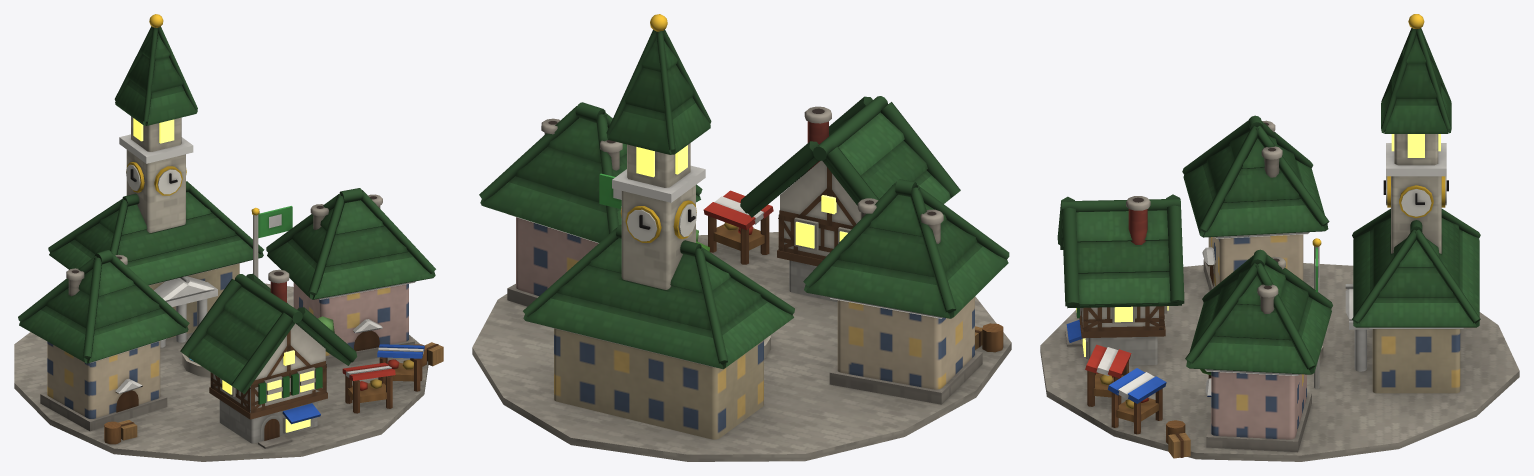
File: city_dl4_green.glb
The picture shows the model from 3 angles, left to right: view 1: azimuth 30°, elevation 25°; view 2: azimuth 150°, elevation 25°; view 3: azimuth 270°, elevation 25°; orthographic projection. The views are drawn at different scales.
Visible parts, largest first — view 1: city_dl4_green; view 2: city_dl4_green; view 3: city_dl4_green.
Part boxes in pixels (x1,y1,x2,y2): city_dl4_green: (14, 14, 443, 461); city_dl4_green: (472, 14, 1011, 461); city_dl4_green: (1040, 14, 1519, 461).
Size of the model in its own units: 1.51 by 1.2 by 1.49.
Materials: 2 (1 with a texture image).
